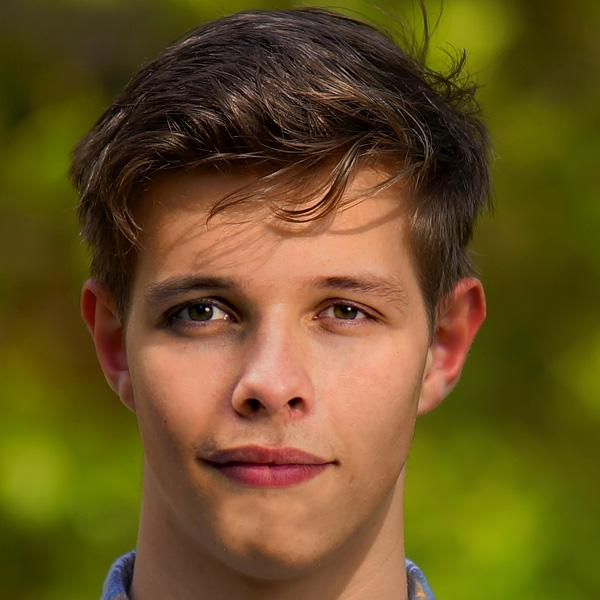Eyes: (143, 289, 255, 344), (299, 286, 401, 338)
